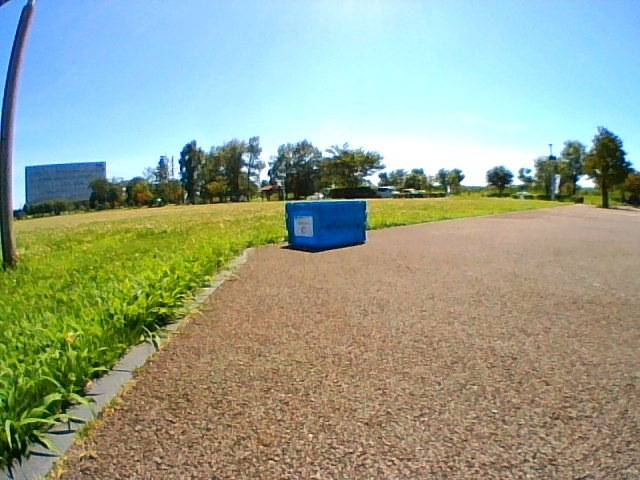blue_box: (285, 202, 366, 245)
tag_c: (295, 216, 313, 235)
